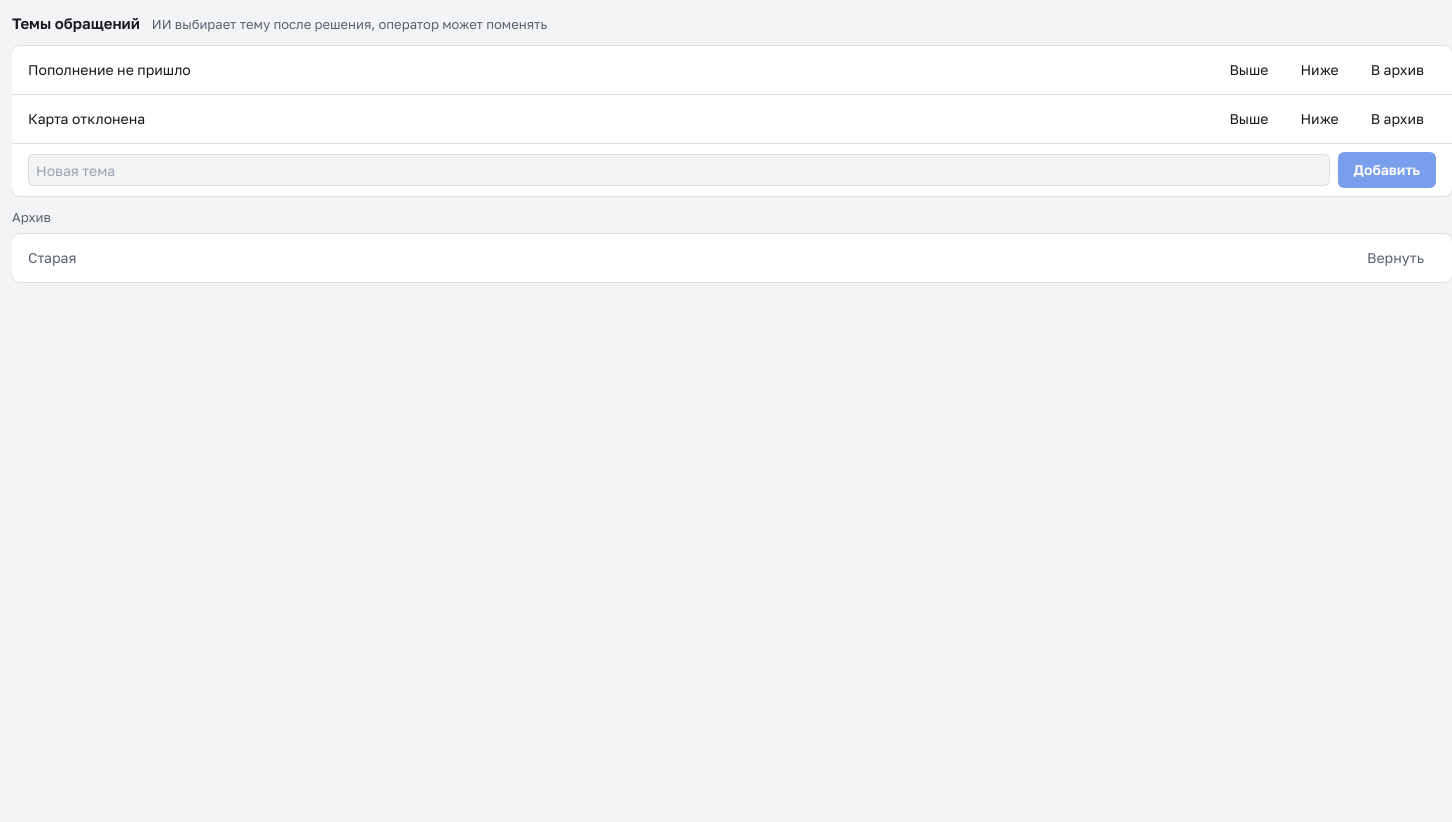
Test: TopicsSection › shows a duplicate name as a toast
Expected: the button "Пополнение не пришло" is shown, [28,60,1209,80]
Type "карта отклонена" into the field with placeholder "Новая тема" at (679, 170), box [28,154,1330,186]
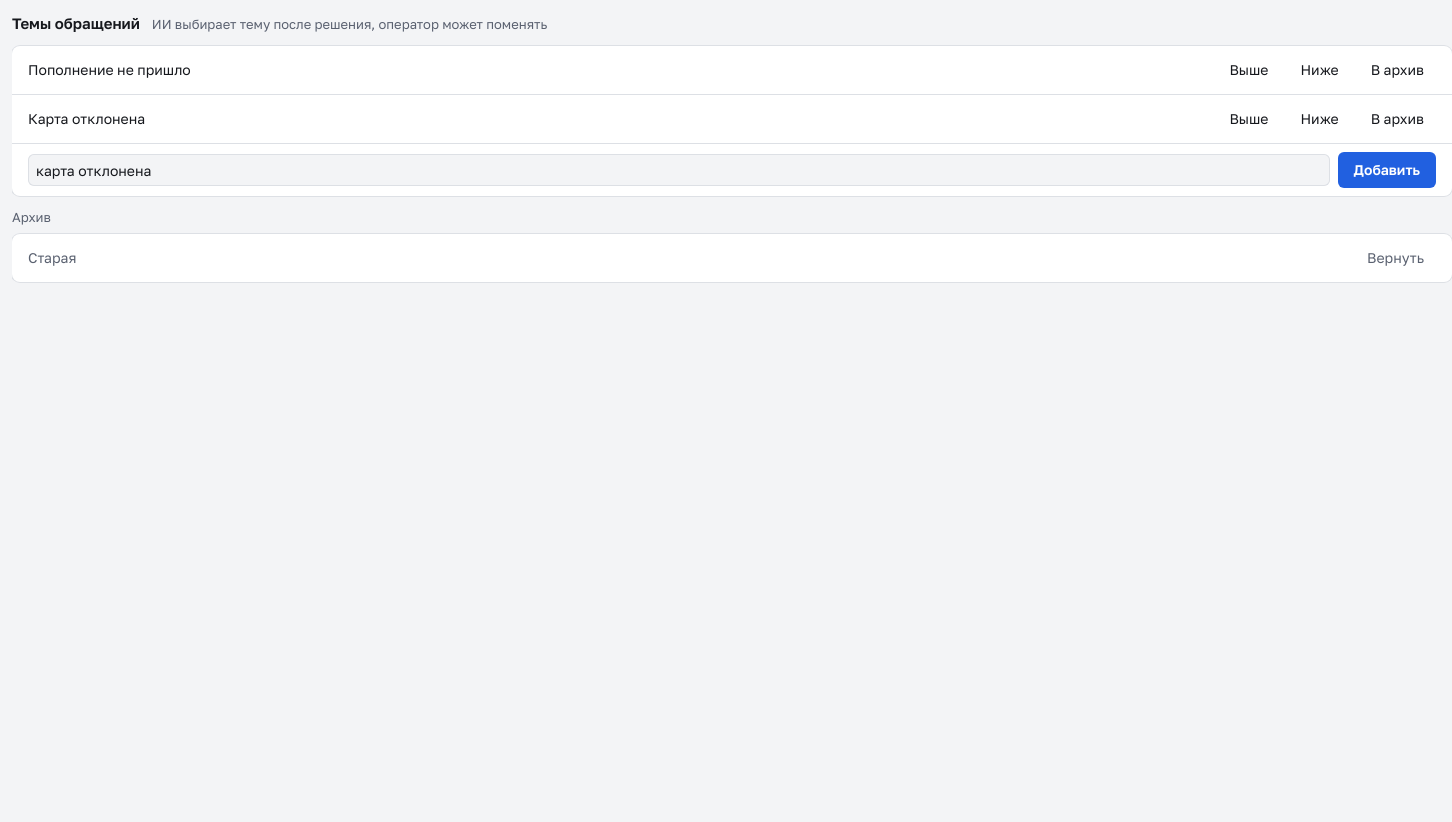
Click the button "Добавить" at (1387, 170), box [1338,152,1436,188]
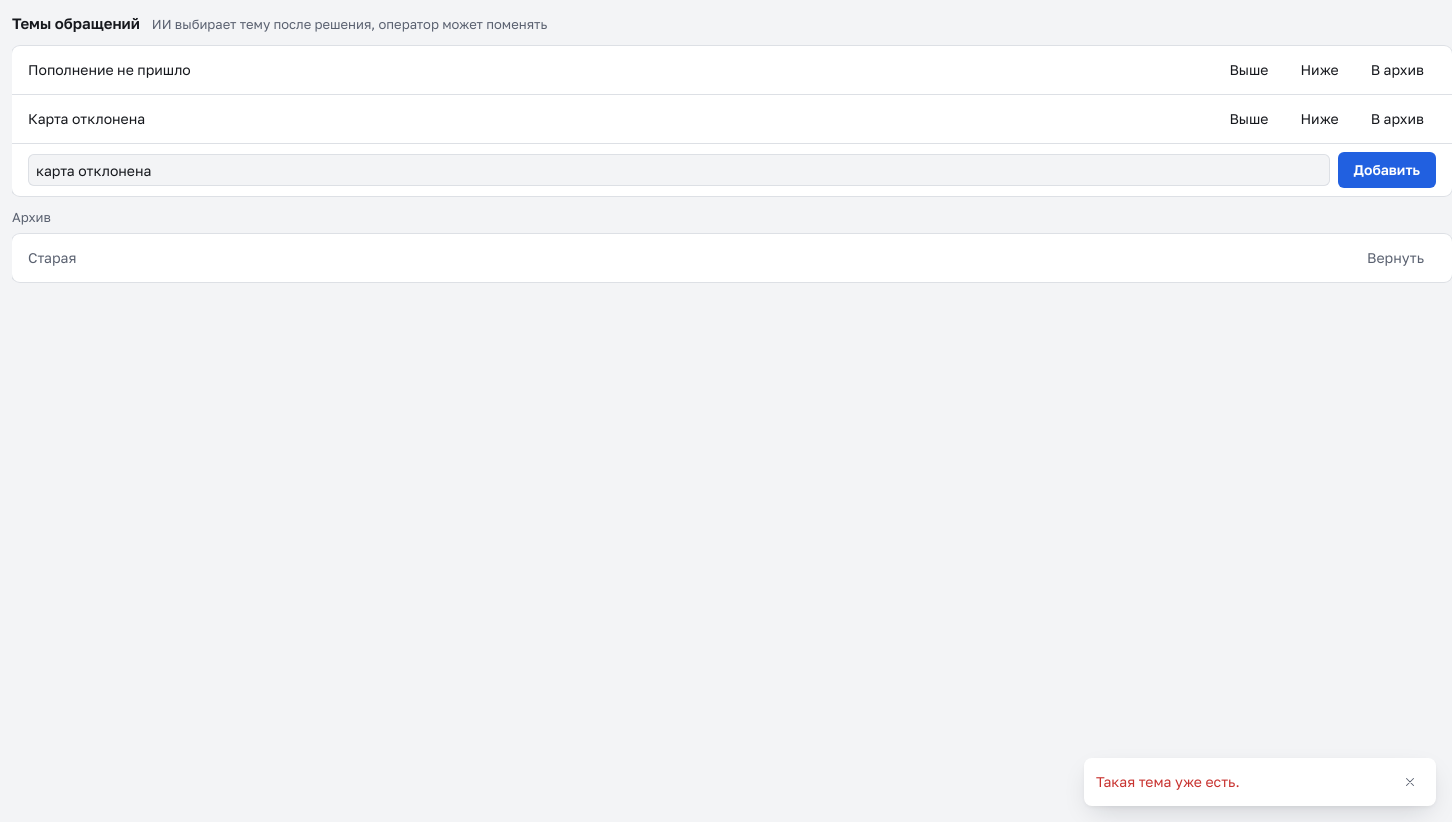
Result: the text "Такая тема уже есть." is shown at [1096,773,1240,790]
